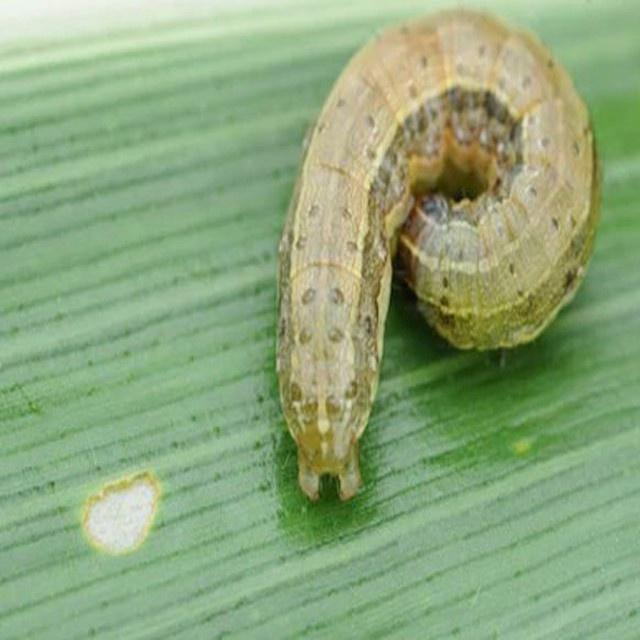gusano_cogollero: (272, 9, 598, 507)
